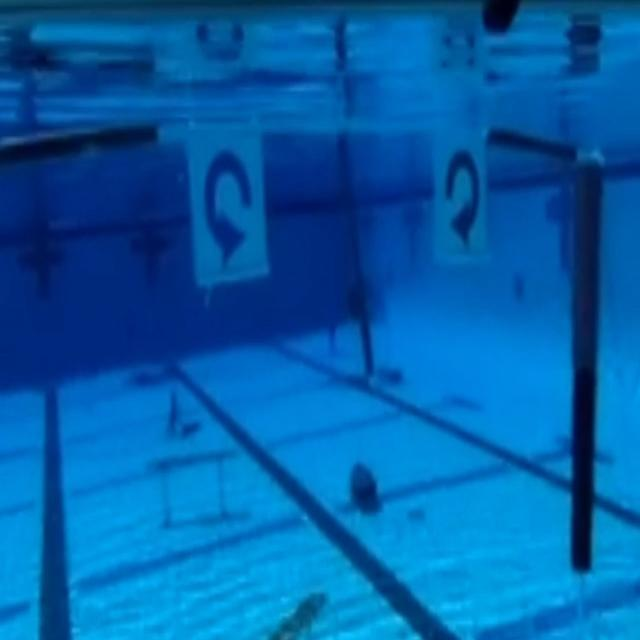Gate: (2, 132, 599, 570)
